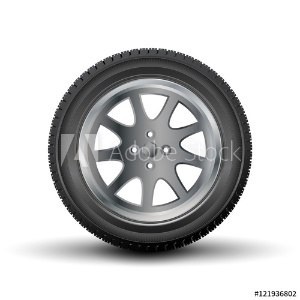tire: (47, 48, 254, 260)
